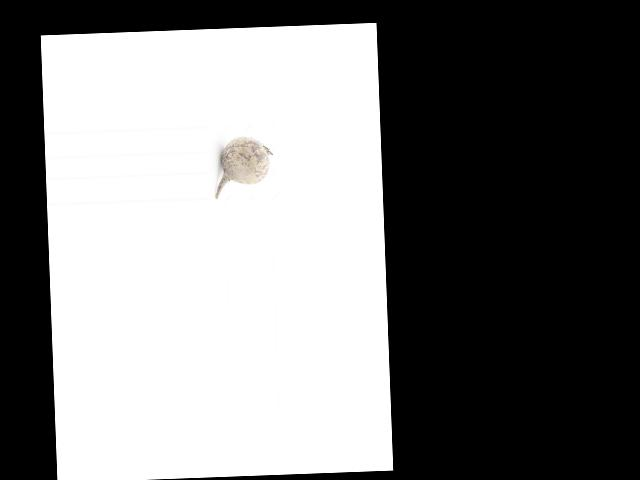beet: (213, 135, 274, 198)
